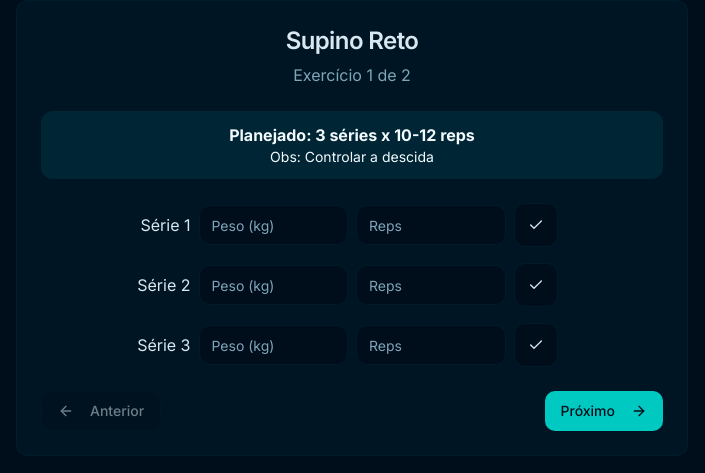
Test case: WorkoutSession › navigates back with "Anterior"
Step 1. Click the button "Próximo" → [604, 411], box [544,391,663,431]
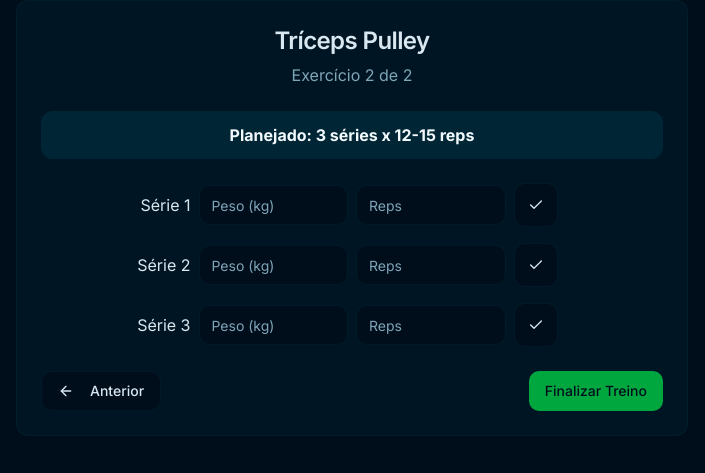
Expected: the heading "Tríceps Pulley" is shown, [274,26,430,55]
Step 2. Click the button "Anterior" → [101, 391], box [41,371,161,411]
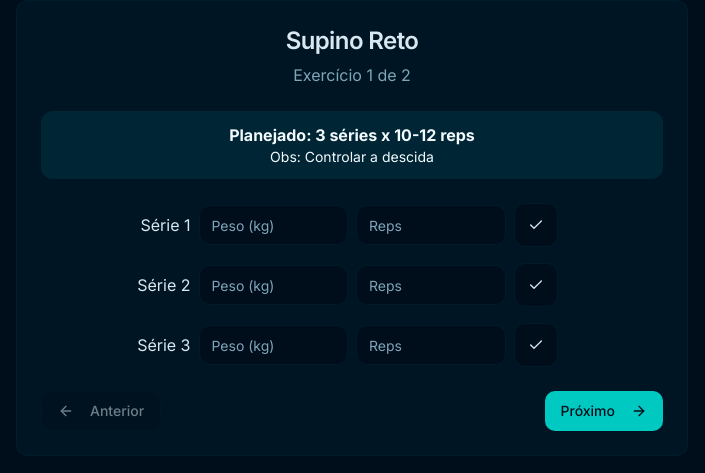
Expected: the heading "Supino Reto" is shown, [286,26,418,55]
